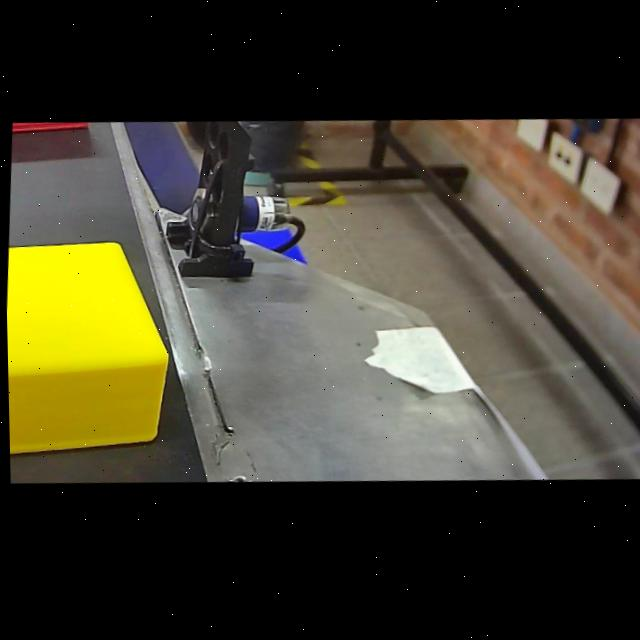redBox: (11, 119, 101, 148)
yellowBox: (4, 229, 177, 467)
